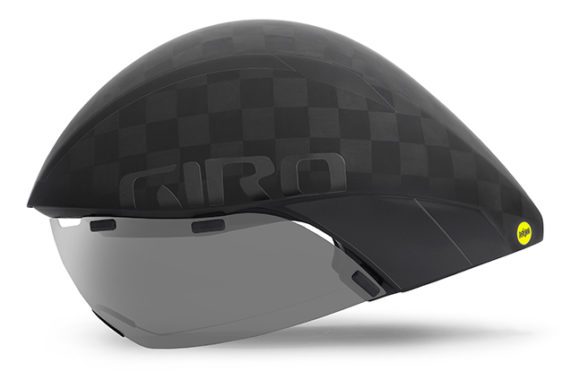with_helmet: (20, 11, 556, 353)
